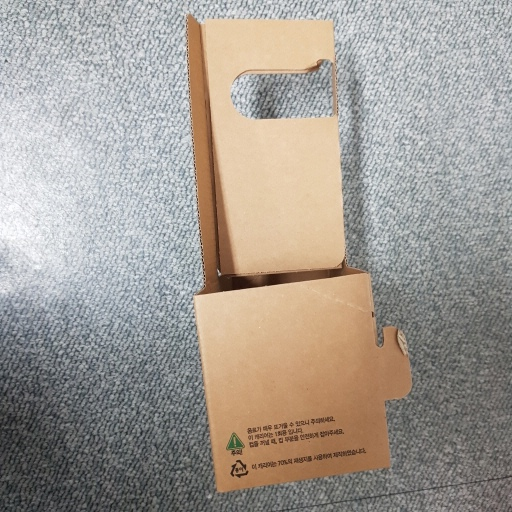Paper_0: (172, 9, 417, 495)
